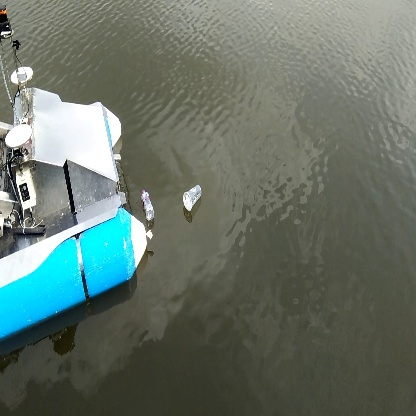bottle: (179, 183, 206, 214), (138, 187, 156, 222)
